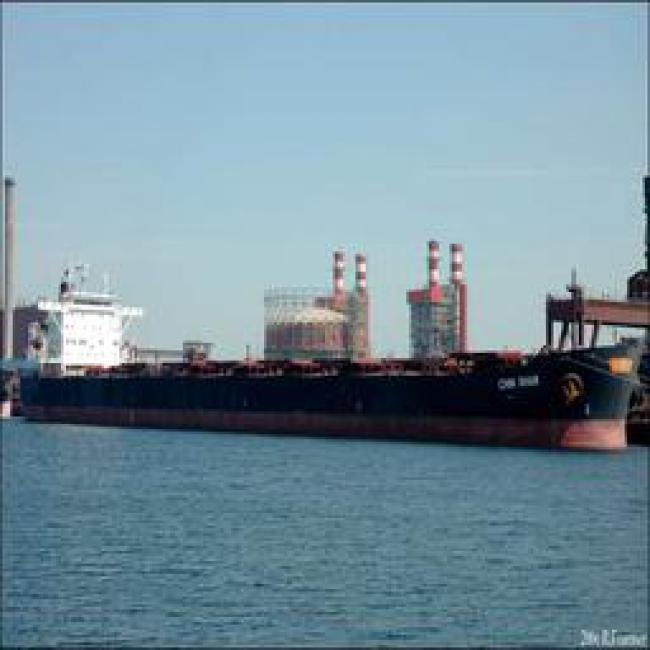Ship: (16, 334, 644, 469)
